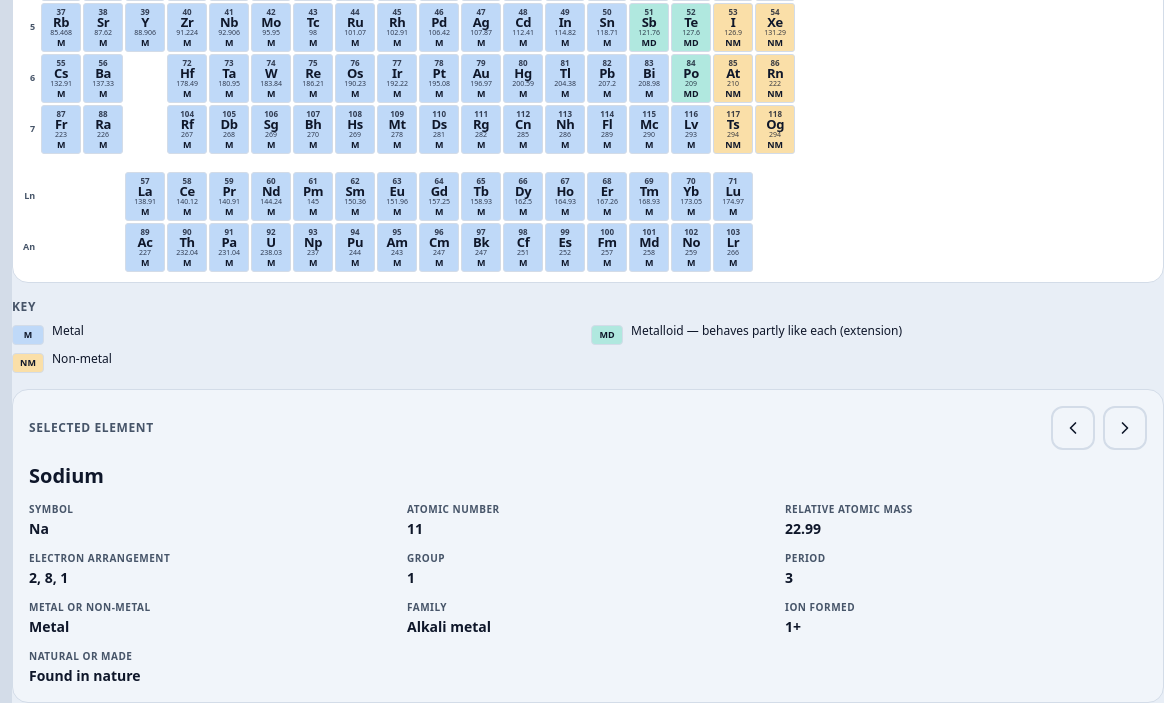
Test: PeriodicTable — the detail panel › steps by atomic number, which is the path arrowing cannot give
(page scrolled)
What coordinates should you click on to do the following:
click the button named "Next element"
I would click on:
 (1125, 428)
Its box is [1103,406,1147,450].
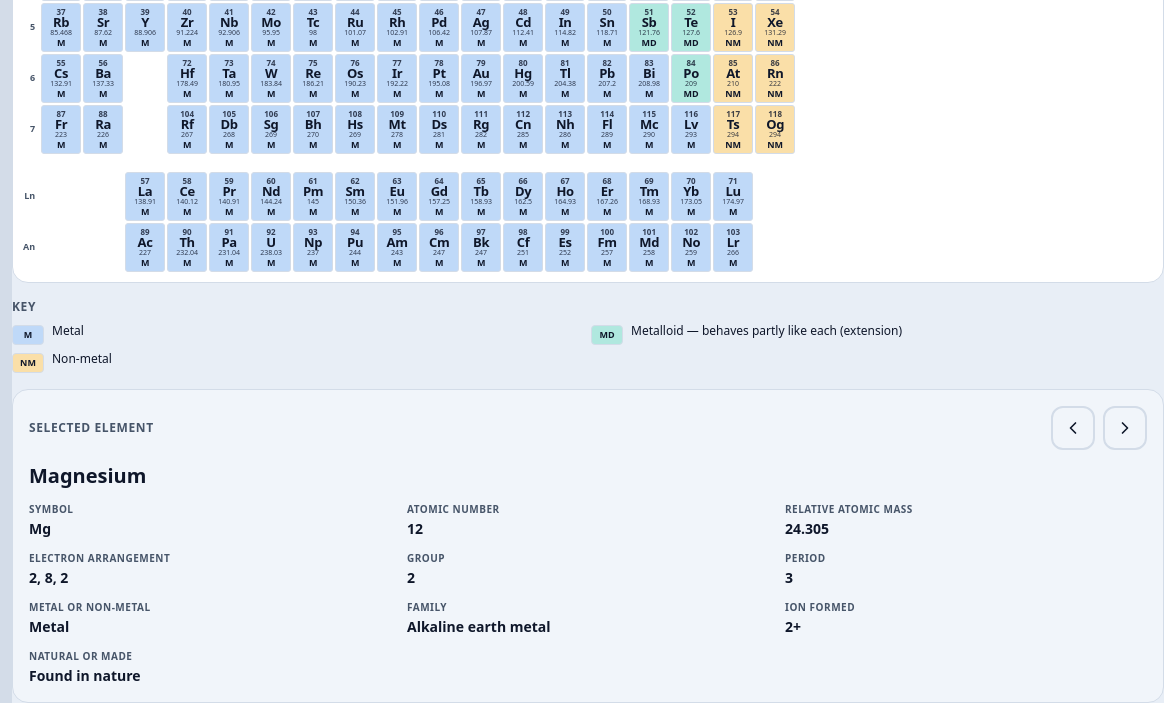
expect the text "Magnesium" is shown: met, box [29,462,146,488]
